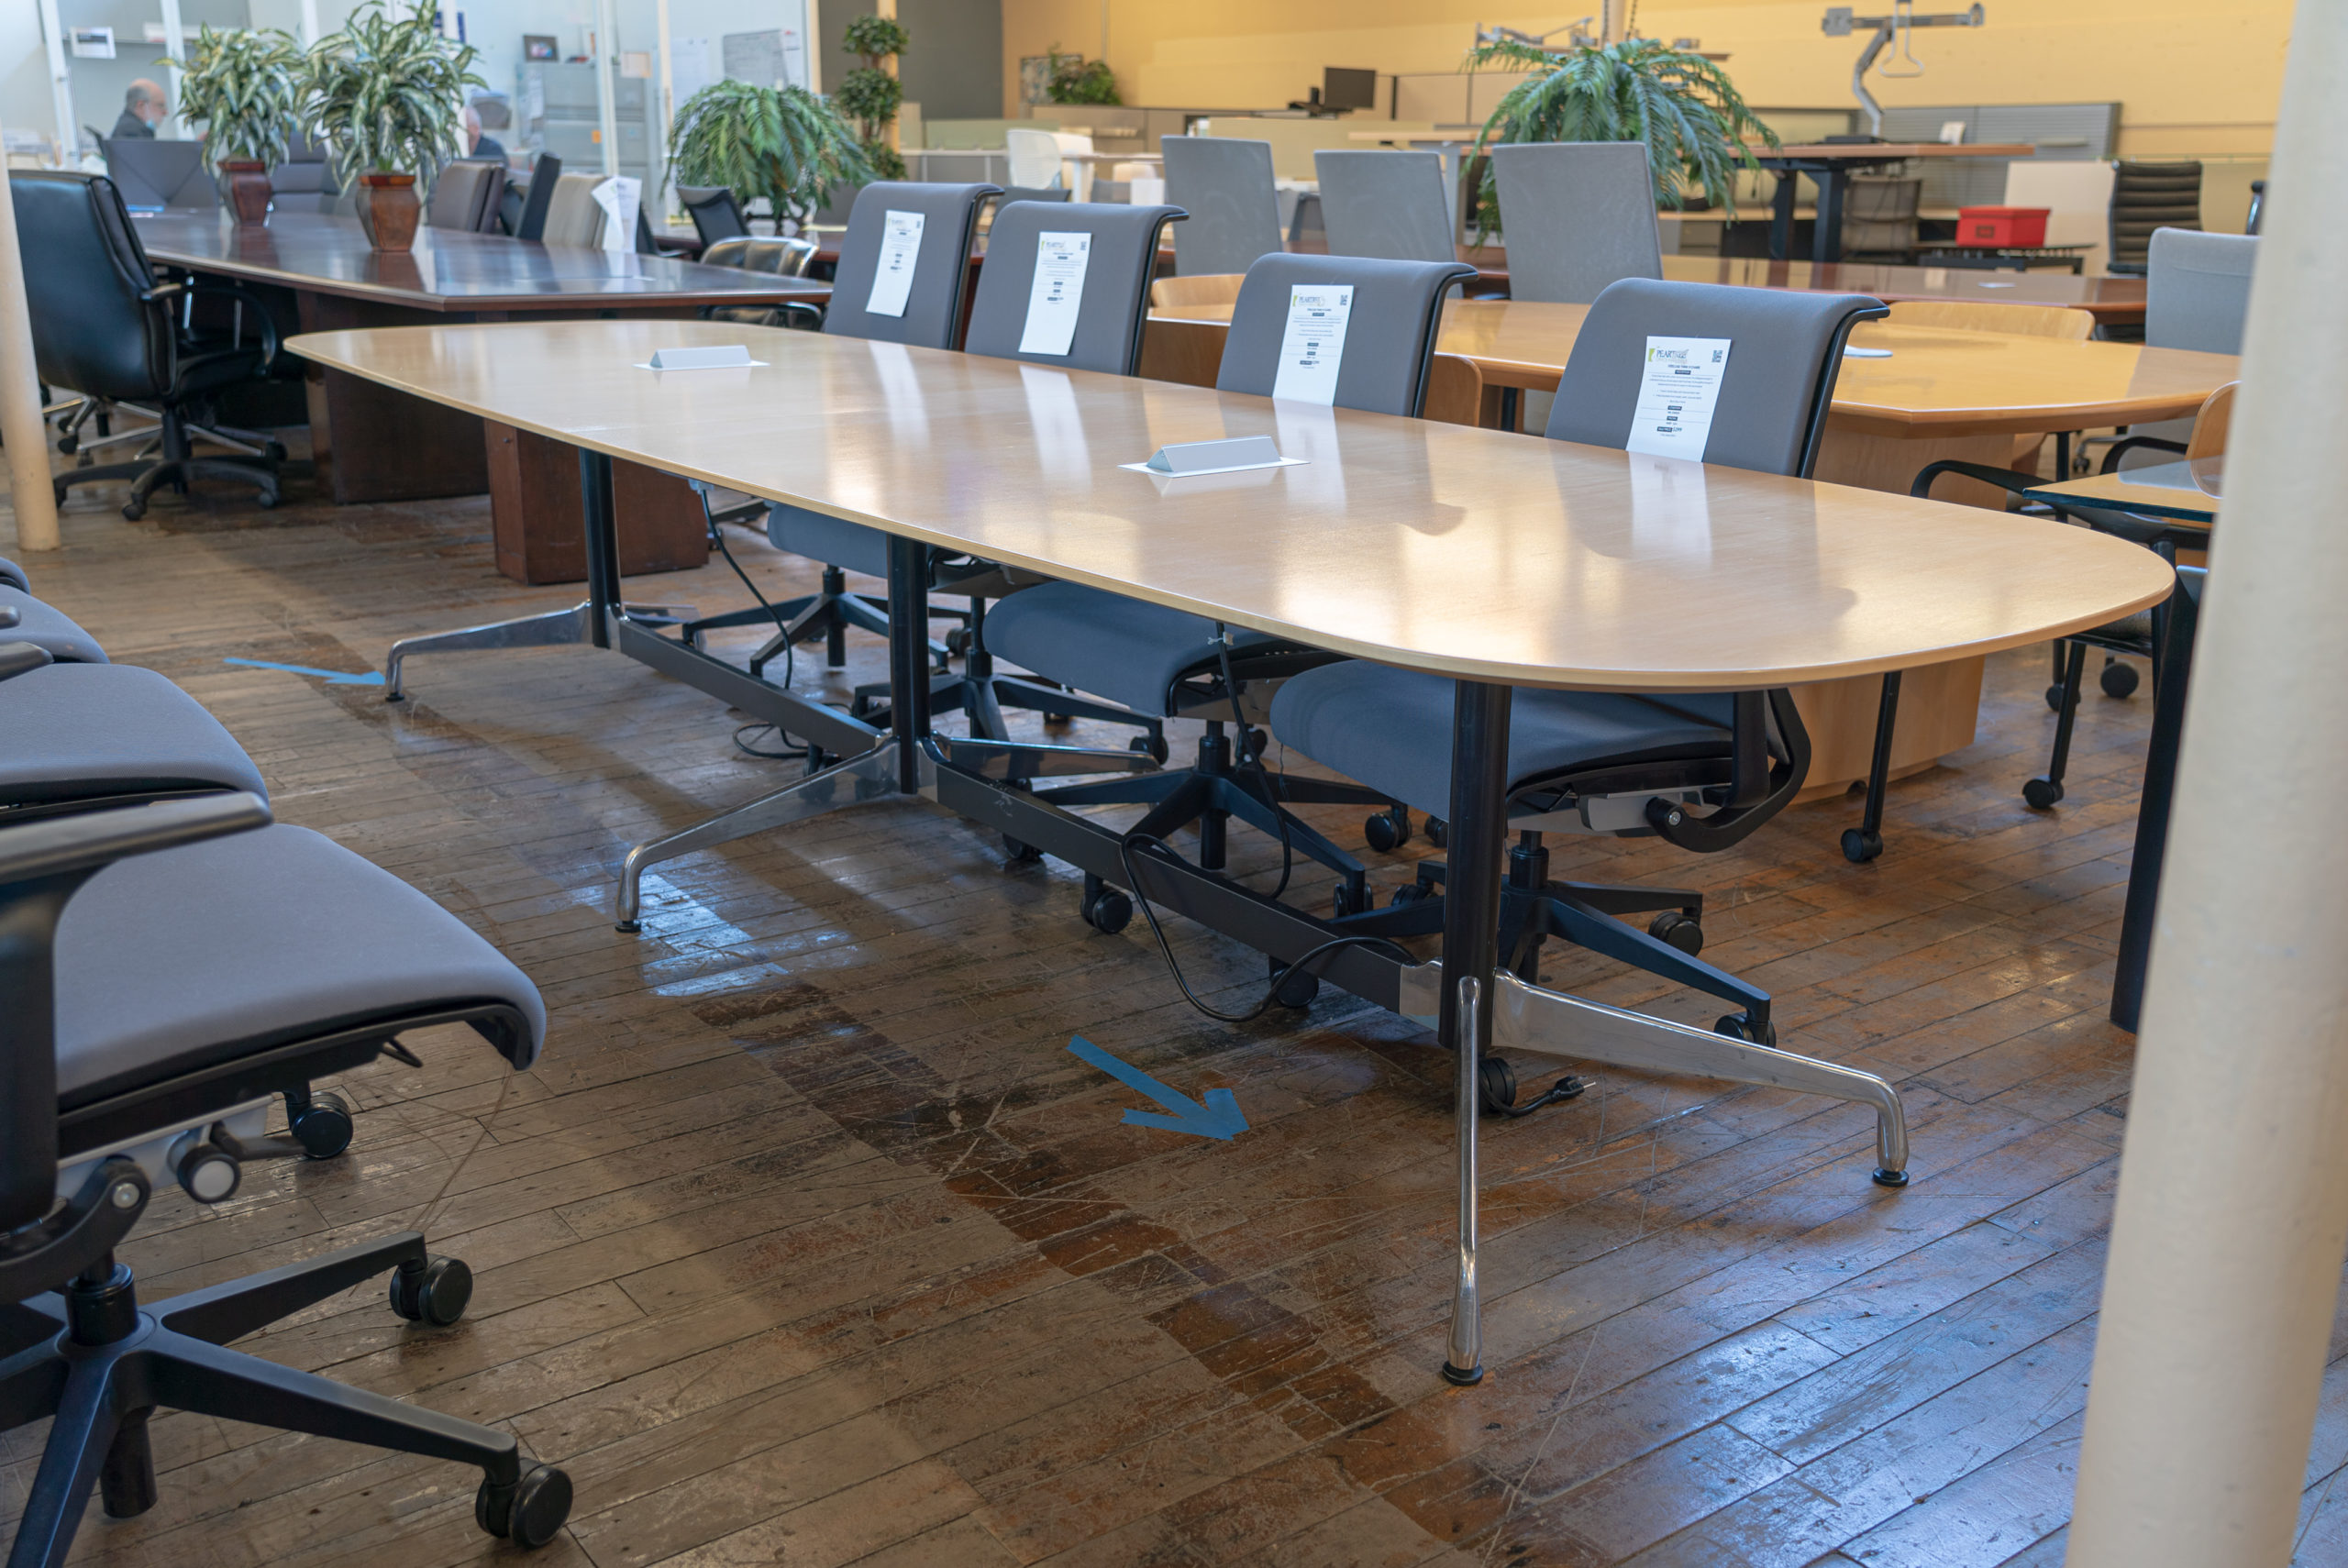conference_table: (281, 319, 2179, 1375), (1137, 296, 2226, 803), (112, 203, 846, 505)
